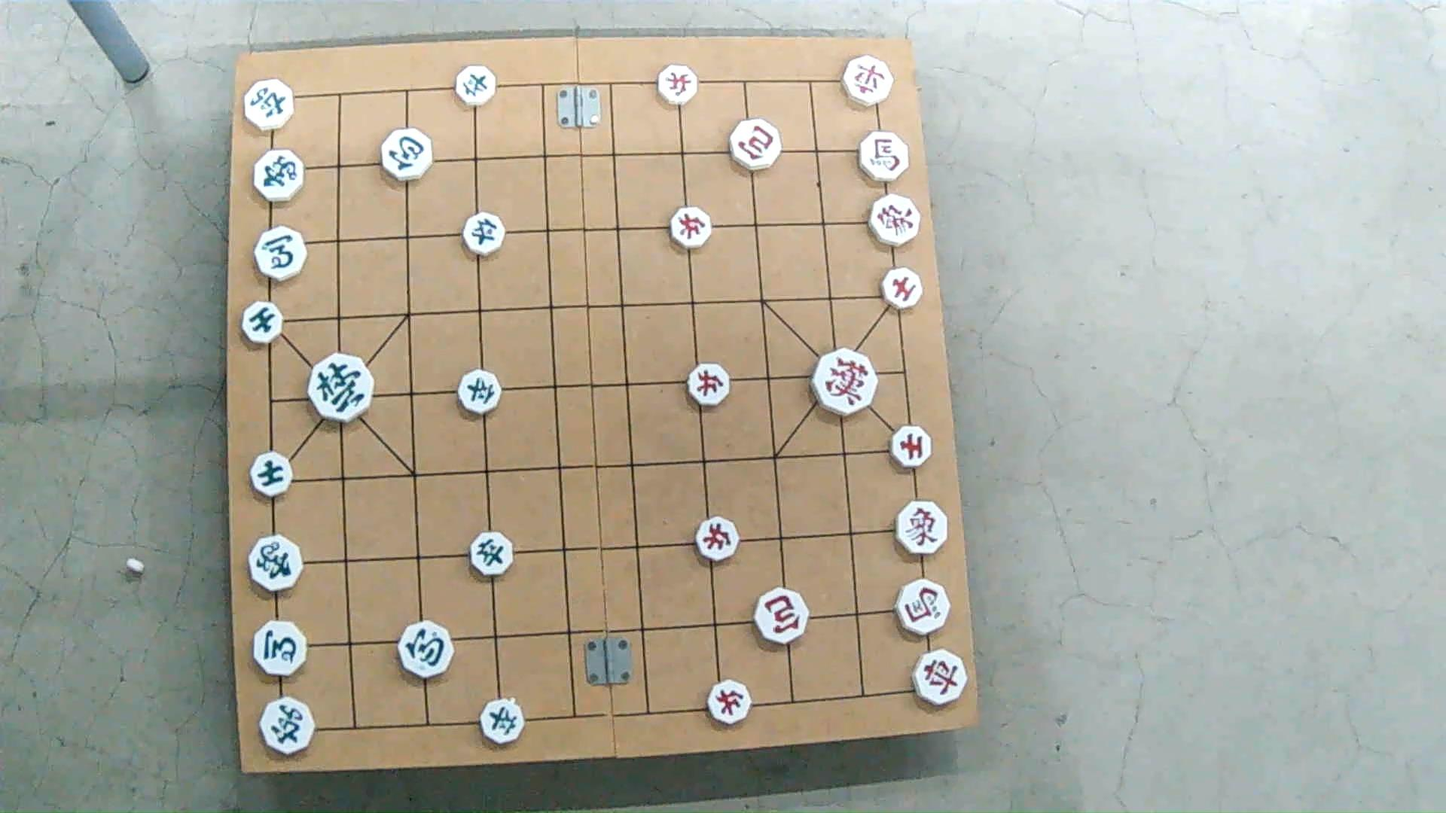cha_green: (262, 698, 319, 753), (243, 78, 295, 132)
cha_red: (913, 647, 968, 706), (840, 56, 898, 107)
jol_green: (457, 372, 502, 412), (462, 214, 505, 255), (470, 533, 513, 574), (454, 68, 497, 106), (483, 705, 524, 741)
jol_red: (706, 683, 752, 725), (697, 519, 740, 561), (686, 364, 731, 404), (671, 209, 715, 248), (654, 67, 697, 105)
ma_green: (255, 621, 308, 675), (255, 230, 307, 280)
ma_red: (897, 578, 952, 635), (859, 133, 909, 180)
po_green: (398, 620, 455, 677), (379, 126, 435, 180)
po_red: (755, 589, 809, 640), (727, 120, 778, 169)
sa_green: (251, 454, 294, 496), (243, 303, 285, 344)
sa_red: (885, 269, 923, 308), (895, 428, 932, 466)
sang_green: (246, 534, 304, 592), (250, 149, 307, 201)
sang_red: (898, 500, 950, 553), (871, 195, 920, 242)
wang_green: (308, 358, 374, 420)
wang_red: (810, 352, 877, 416)
